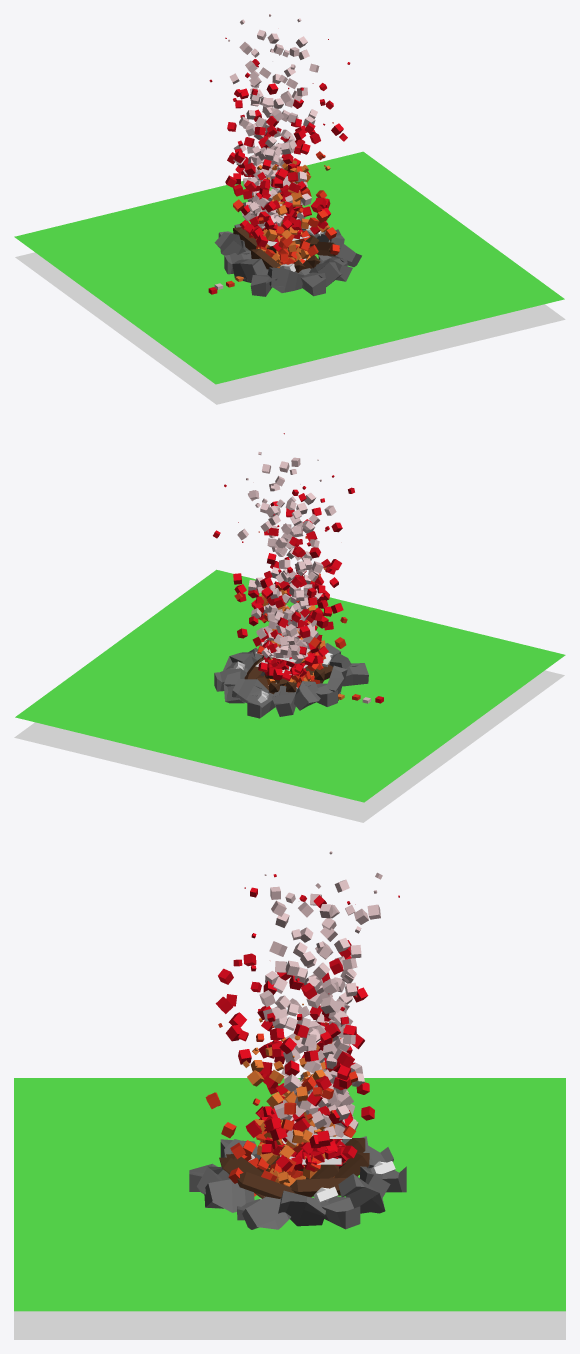
File: FogataLP.fbx
The picture shows the model from 3 angles, top to bottom: view 1: azimuth 30°, elevation 25°; view 2: azimuth 150°, elevation 25°; view 3: azimuth 270°, elevation 25°; orthographic projection. The views are drawn at different scales.
Parts seen in each view (by area): view 1: Plano.004, Plano.005, Cubo.017, Cubo.015, Cubo.004, Cubo.013; view 2: Plano.004, Plano.005, Cubo.013, Cubo.012, Cubo.018, Cubo.011, Cubo.010, Cubo.016; view 3: Plano.004, Plano.005, Cubo.008, Cubo.006, Cubo.007, Cubo.010, Cubo.009, Cubo.028, Cubo.024.
Boxes of the visible parts, x1=… form: Plano.004: x1=14, y1=151, x2=564, y2=384; Plano.005: x1=15, y1=252, x2=565, y2=404; Cubo.017: x1=267, y1=267, x2=304, y2=292; Cubo.015: x1=232, y1=258, x2=266, y2=282; Cubo.004: x1=300, y1=268, x2=325, y2=296; Cubo.013: x1=214, y1=232, x2=245, y2=255; Plano.004: x1=15, y1=569, x2=565, y2=802; Plano.005: x1=14, y1=670, x2=564, y2=822; Cubo.013: x1=294, y1=681, x2=320, y2=710; Cubo.012: x1=271, y1=685, x2=297, y2=716; Cubo.018: x1=232, y1=678, x2=268, y2=702; Cubo.011: x1=247, y1=691, x2=275, y2=718; Cubo.010: x1=223, y1=668, x2=246, y2=703; Cubo.016: x1=332, y1=663, x2=368, y2=686; Plano.004: x1=14, y1=1078, x2=565, y2=1311; Plano.005: x1=14, y1=1311, x2=565, y2=1339; Cubo.008: x1=278, y1=1190, x2=327, y2=1226; Cubo.006: x1=204, y1=1179, x2=254, y2=1212; Cubo.007: x1=242, y1=1196, x2=290, y2=1229; Cubo.010: x1=338, y1=1173, x2=385, y2=1213; Cubo.009: x1=320, y1=1196, x2=360, y2=1229; Cubo.028: x1=237, y1=1172, x2=295, y2=1198; Cubo.024: x1=289, y1=1177, x2=346, y2=1196.
Size of what is drawn, in the model's own units: 359 by 253 by 359.
